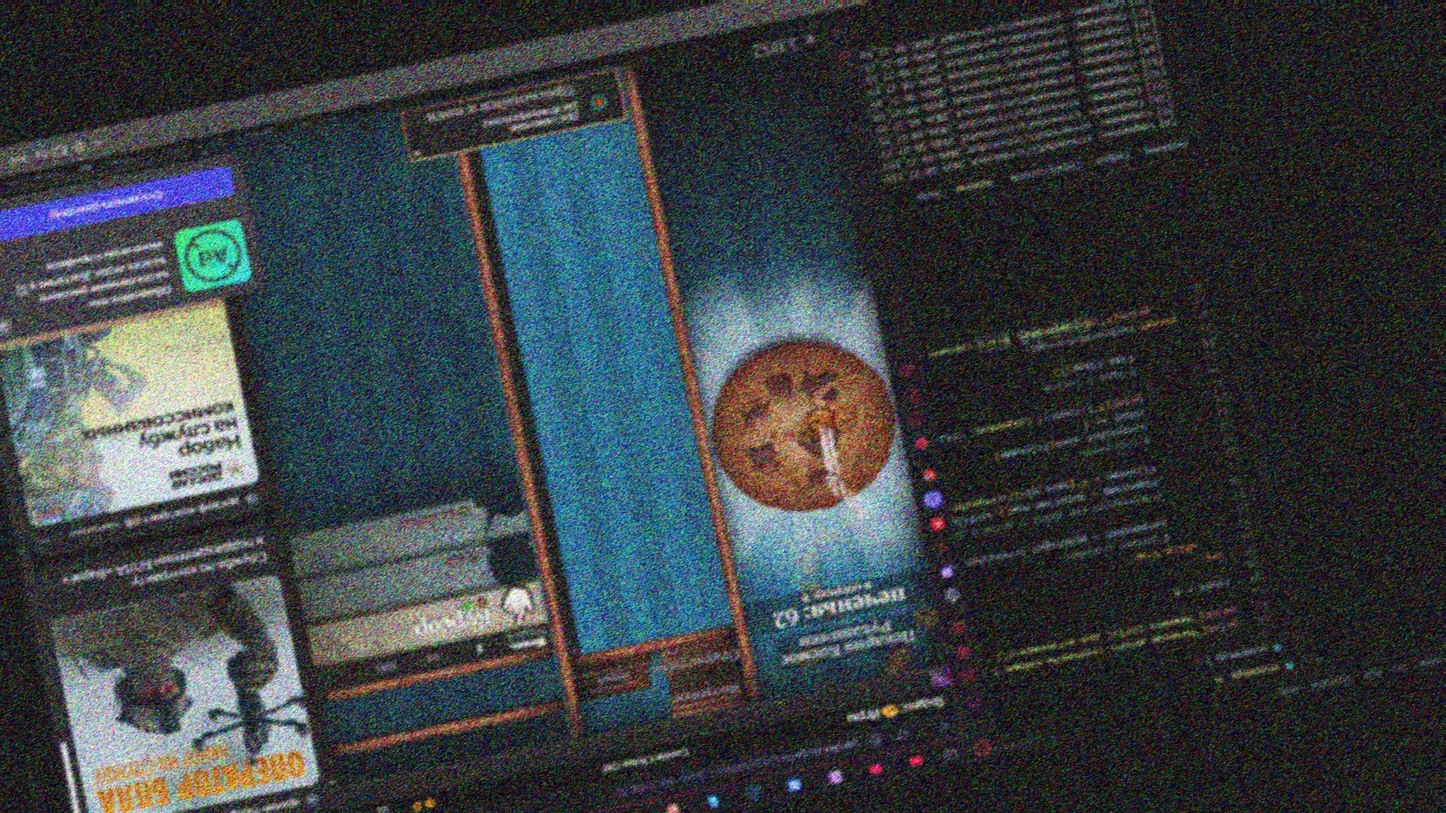game: (723, 345, 889, 505)
pokypki: (289, 505, 553, 692)
